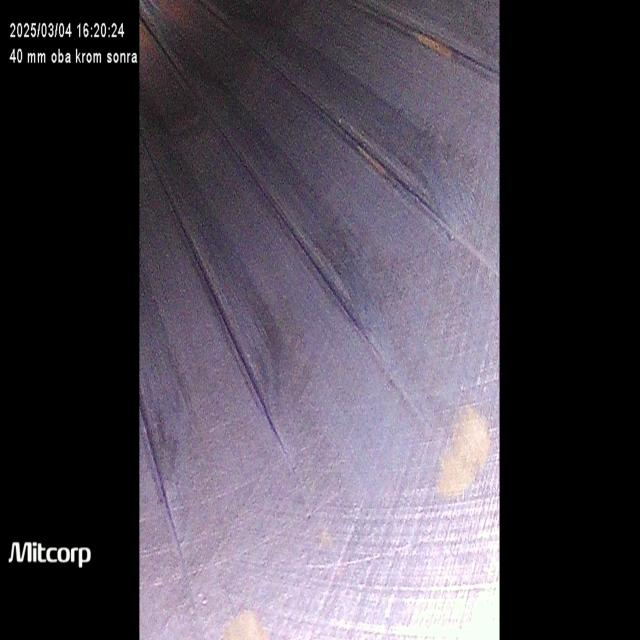hata_8.1: (259, 501, 499, 638)
